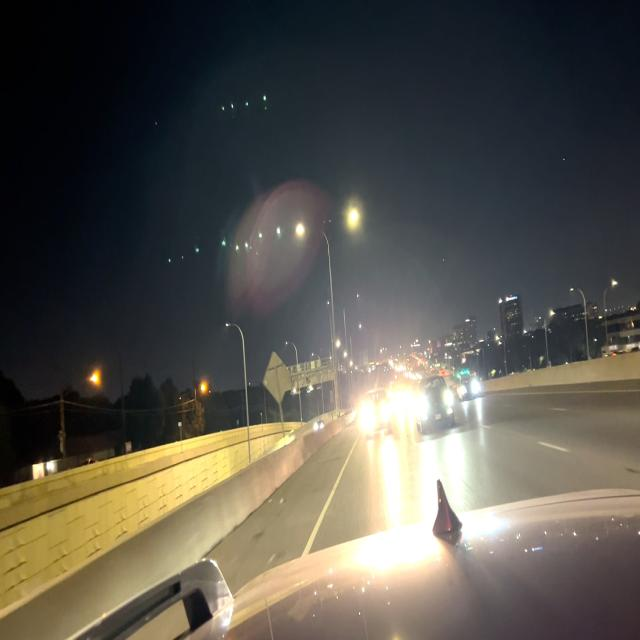back-of-sign: (262, 353, 292, 404)
